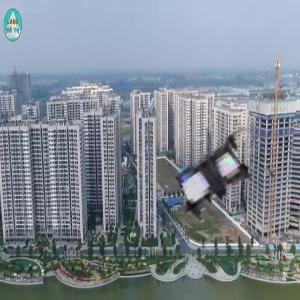drone: (151, 119, 281, 249)
